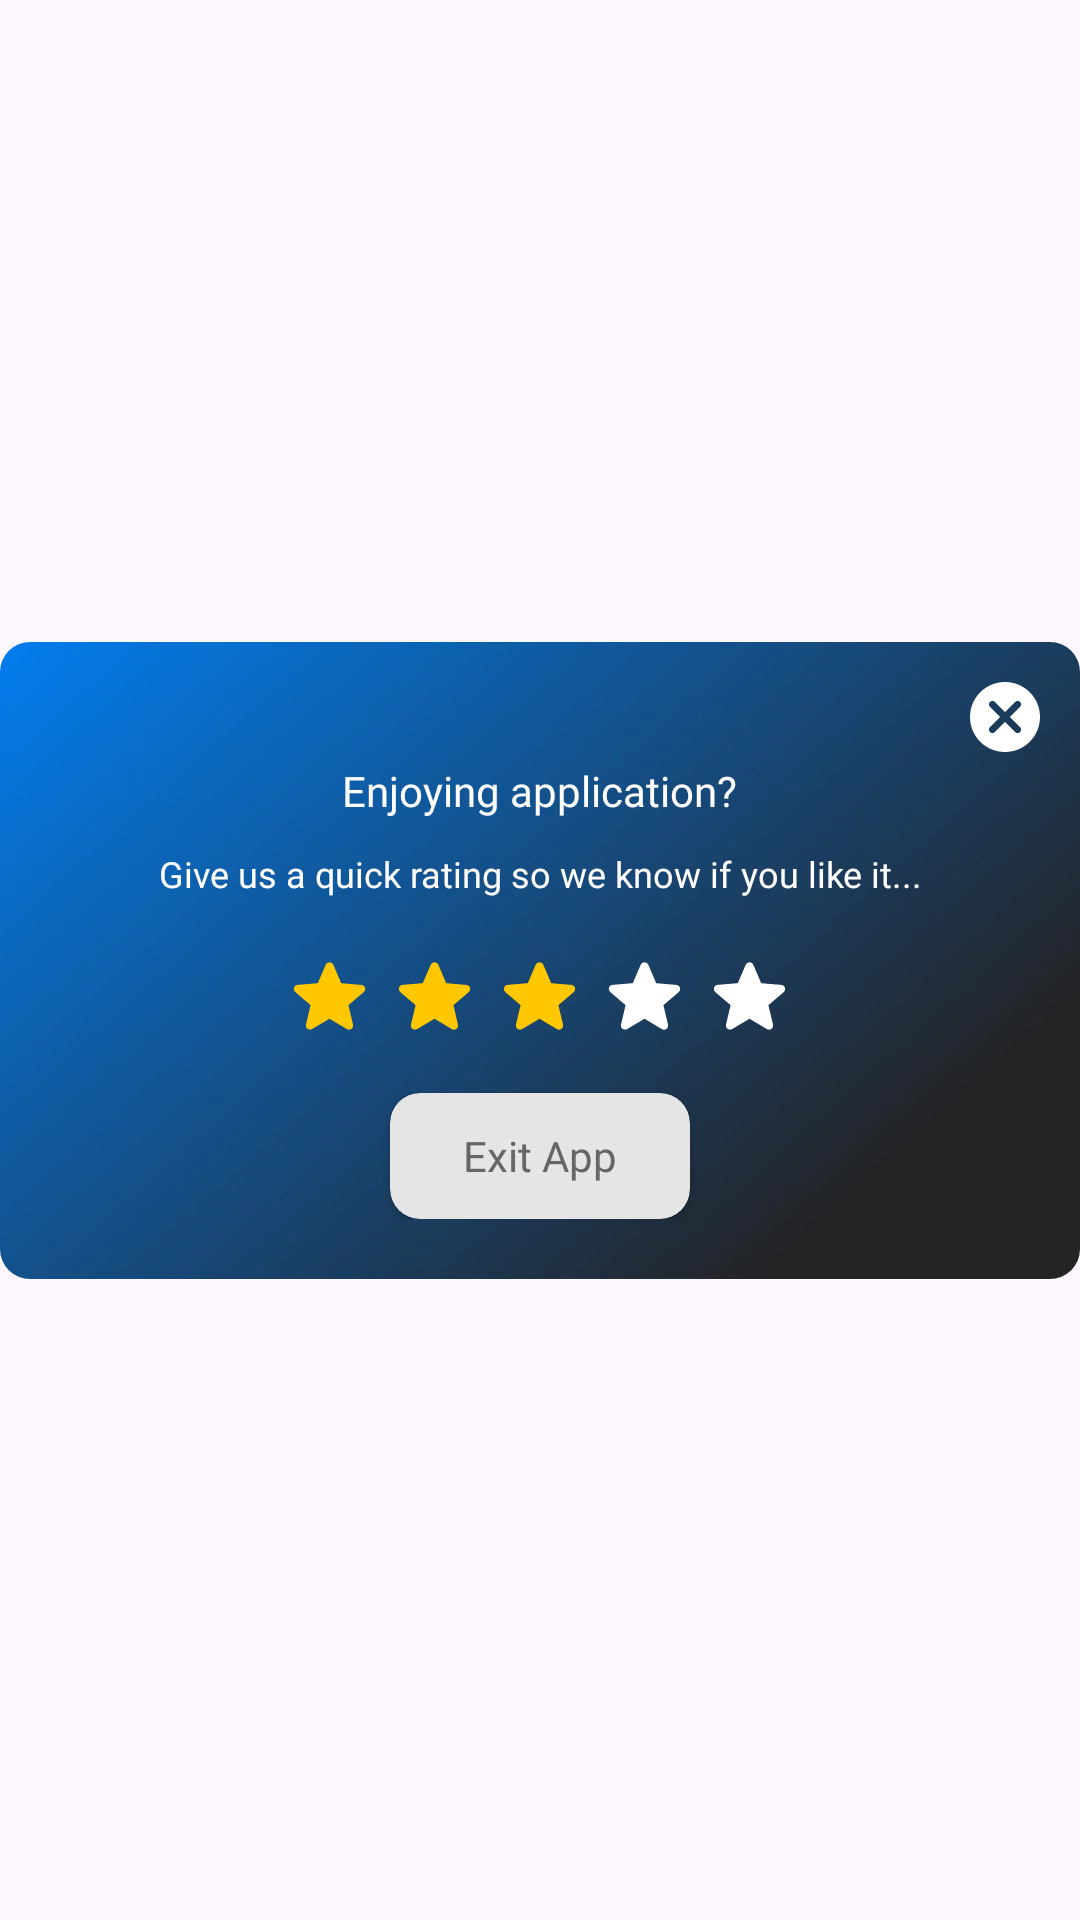

Named icons in this screenshot (1080x1920) and their centers, [x,y]:
close: [1005,717]
star: [329,996], [434,996], [539,996], [644,996], [749,996]
